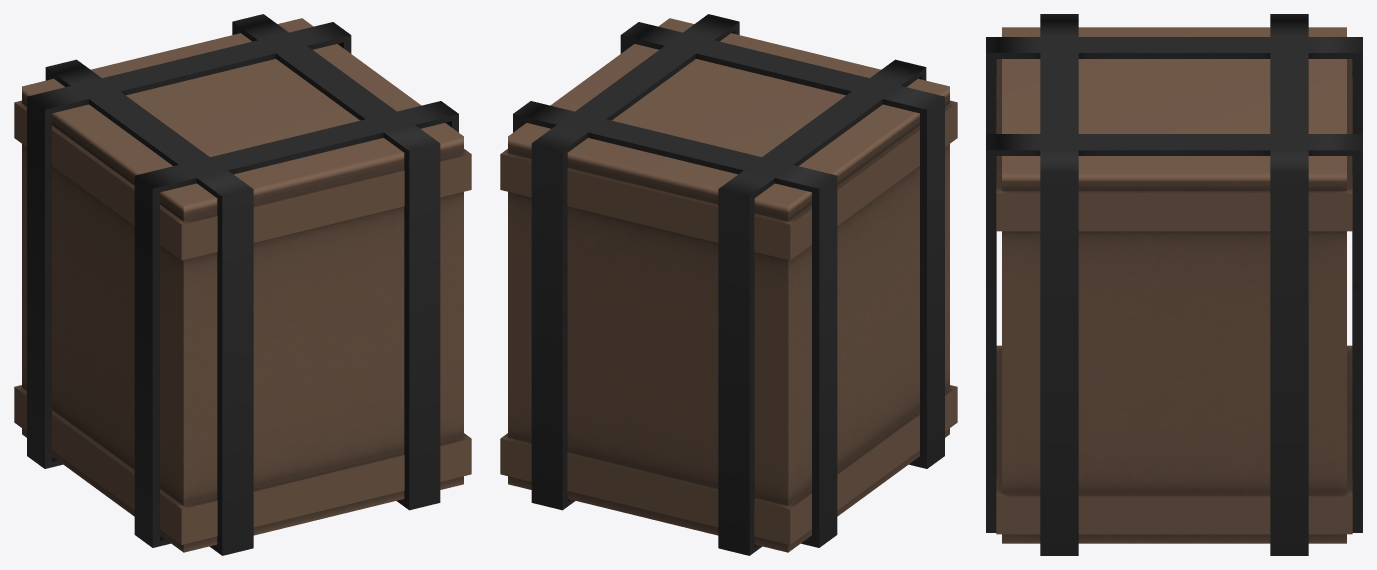
File: Crate_Tall_Straps.fbx
3 renders of one model, left to right at view 1: azimuth 30°, elevation 25°; view 2: azimuth 150°, elevation 25°; view 3: azimuth 270°, elevation 25°, orthographic. The views are drawn at different scales.
Parts seen in each view (by area): view 1: Crate_Tall, Crate_Strap, Crate_Top; view 2: Crate_Tall, Crate_Strap, Crate_Top; view 3: Crate_Tall, Crate_Strap, Crate_Top.
Part boxes in pixels (x1,y1,x2,y2): Crate_Tall: [14, 94, 471, 552]; Crate_Strap: [27, 14, 458, 555]; Crate_Top: [22, 18, 463, 212]; Crate_Tall: [500, 94, 957, 552]; Crate_Strap: [513, 14, 944, 555]; Crate_Top: [508, 18, 949, 212]; Crate_Tall: [996, 59, 1352, 543]; Crate_Strap: [986, 14, 1362, 555]; Crate_Top: [1002, 27, 1346, 181].
Size of the model in its own units: 1.4 by 1.57 by 1.4.
